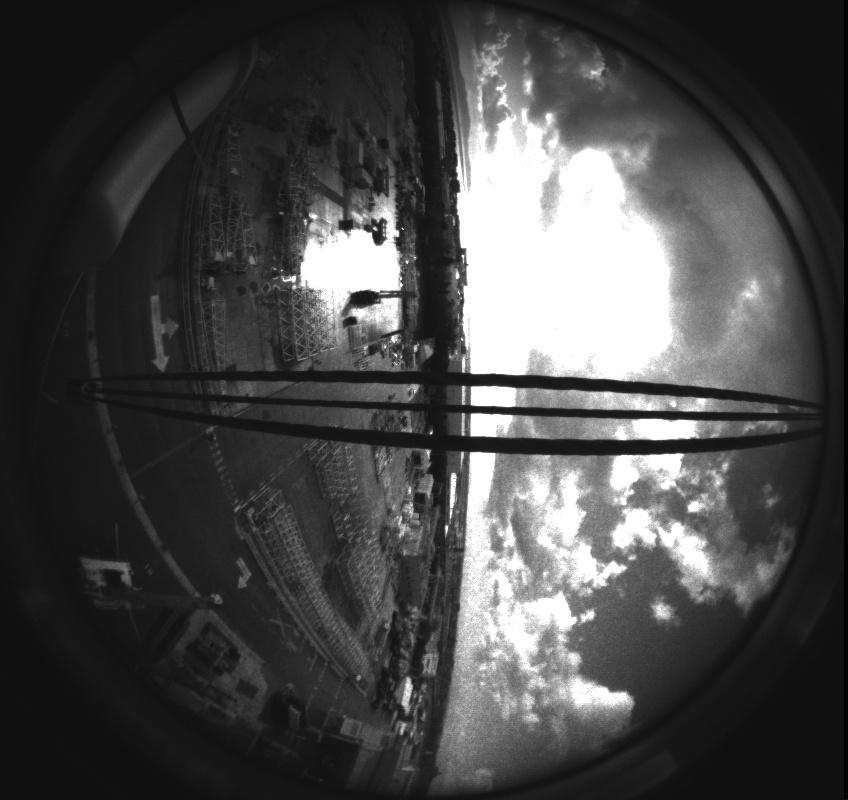rope: (2, 357, 843, 466)
